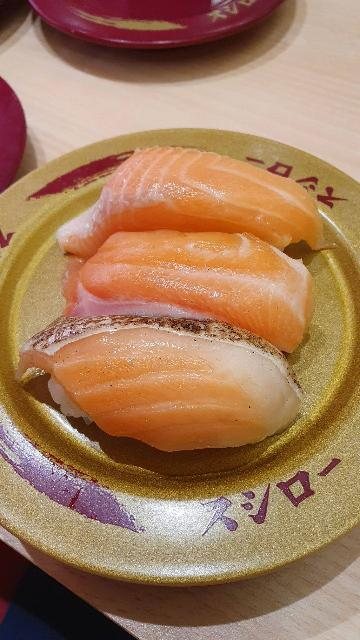jangold: (2, 153, 360, 564)
janred: (18, 0, 302, 68), (0, 74, 44, 184)
